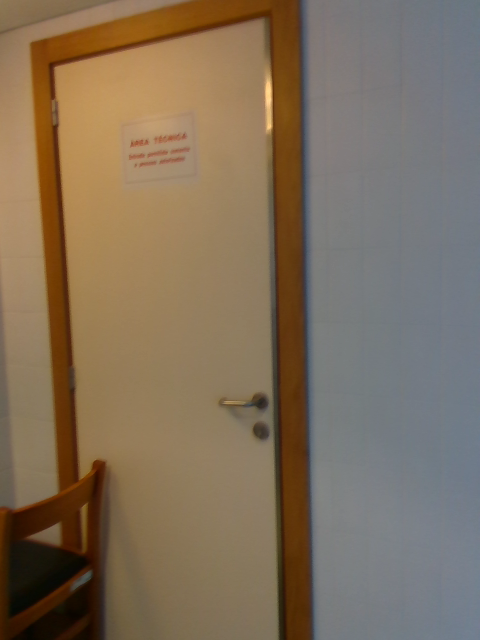closed: (28, 5, 308, 637)
